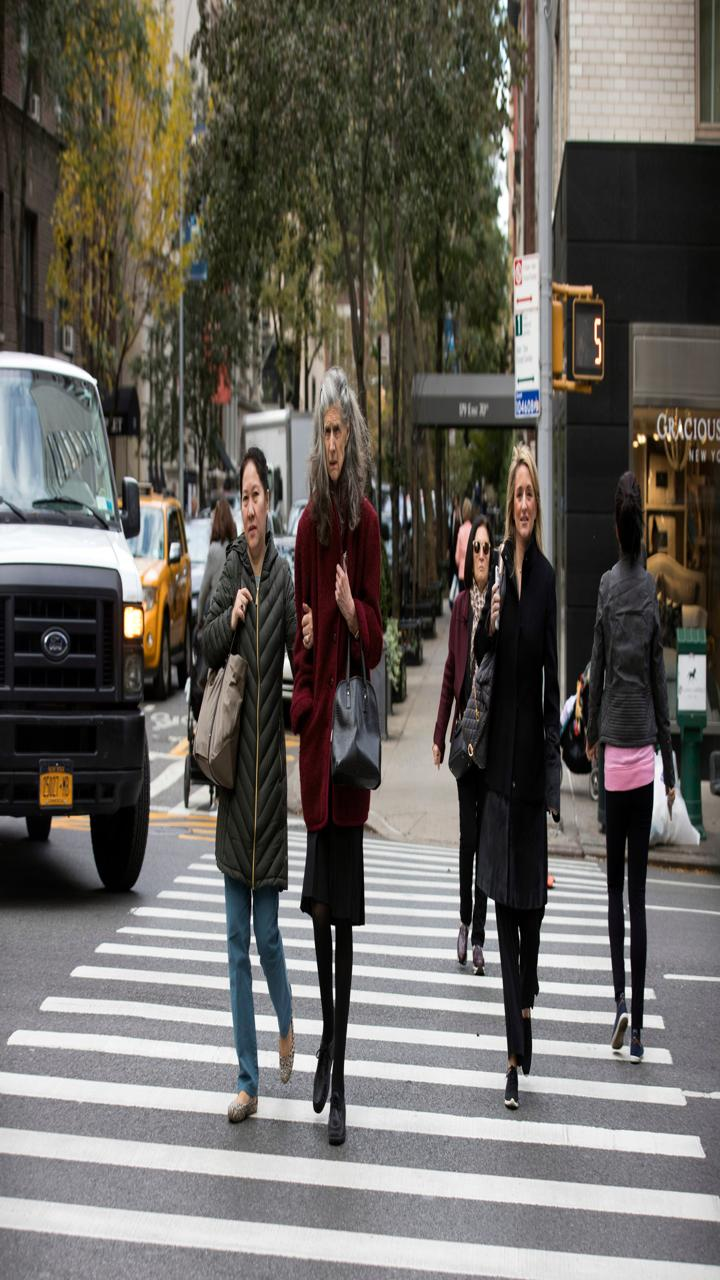pedestrian: (280, 358, 390, 1168), (457, 405, 572, 1123), (563, 422, 687, 1073), (202, 440, 306, 1132)
vehicle: (4, 351, 160, 895)
